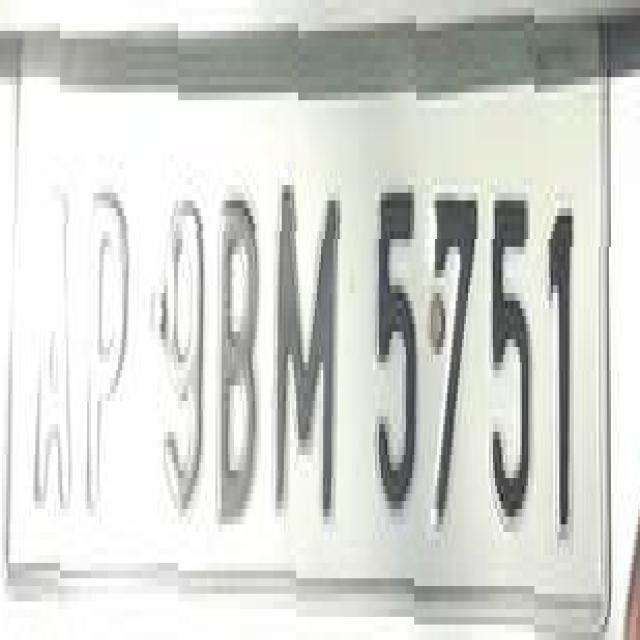license_plate: (23, 16, 640, 609)
